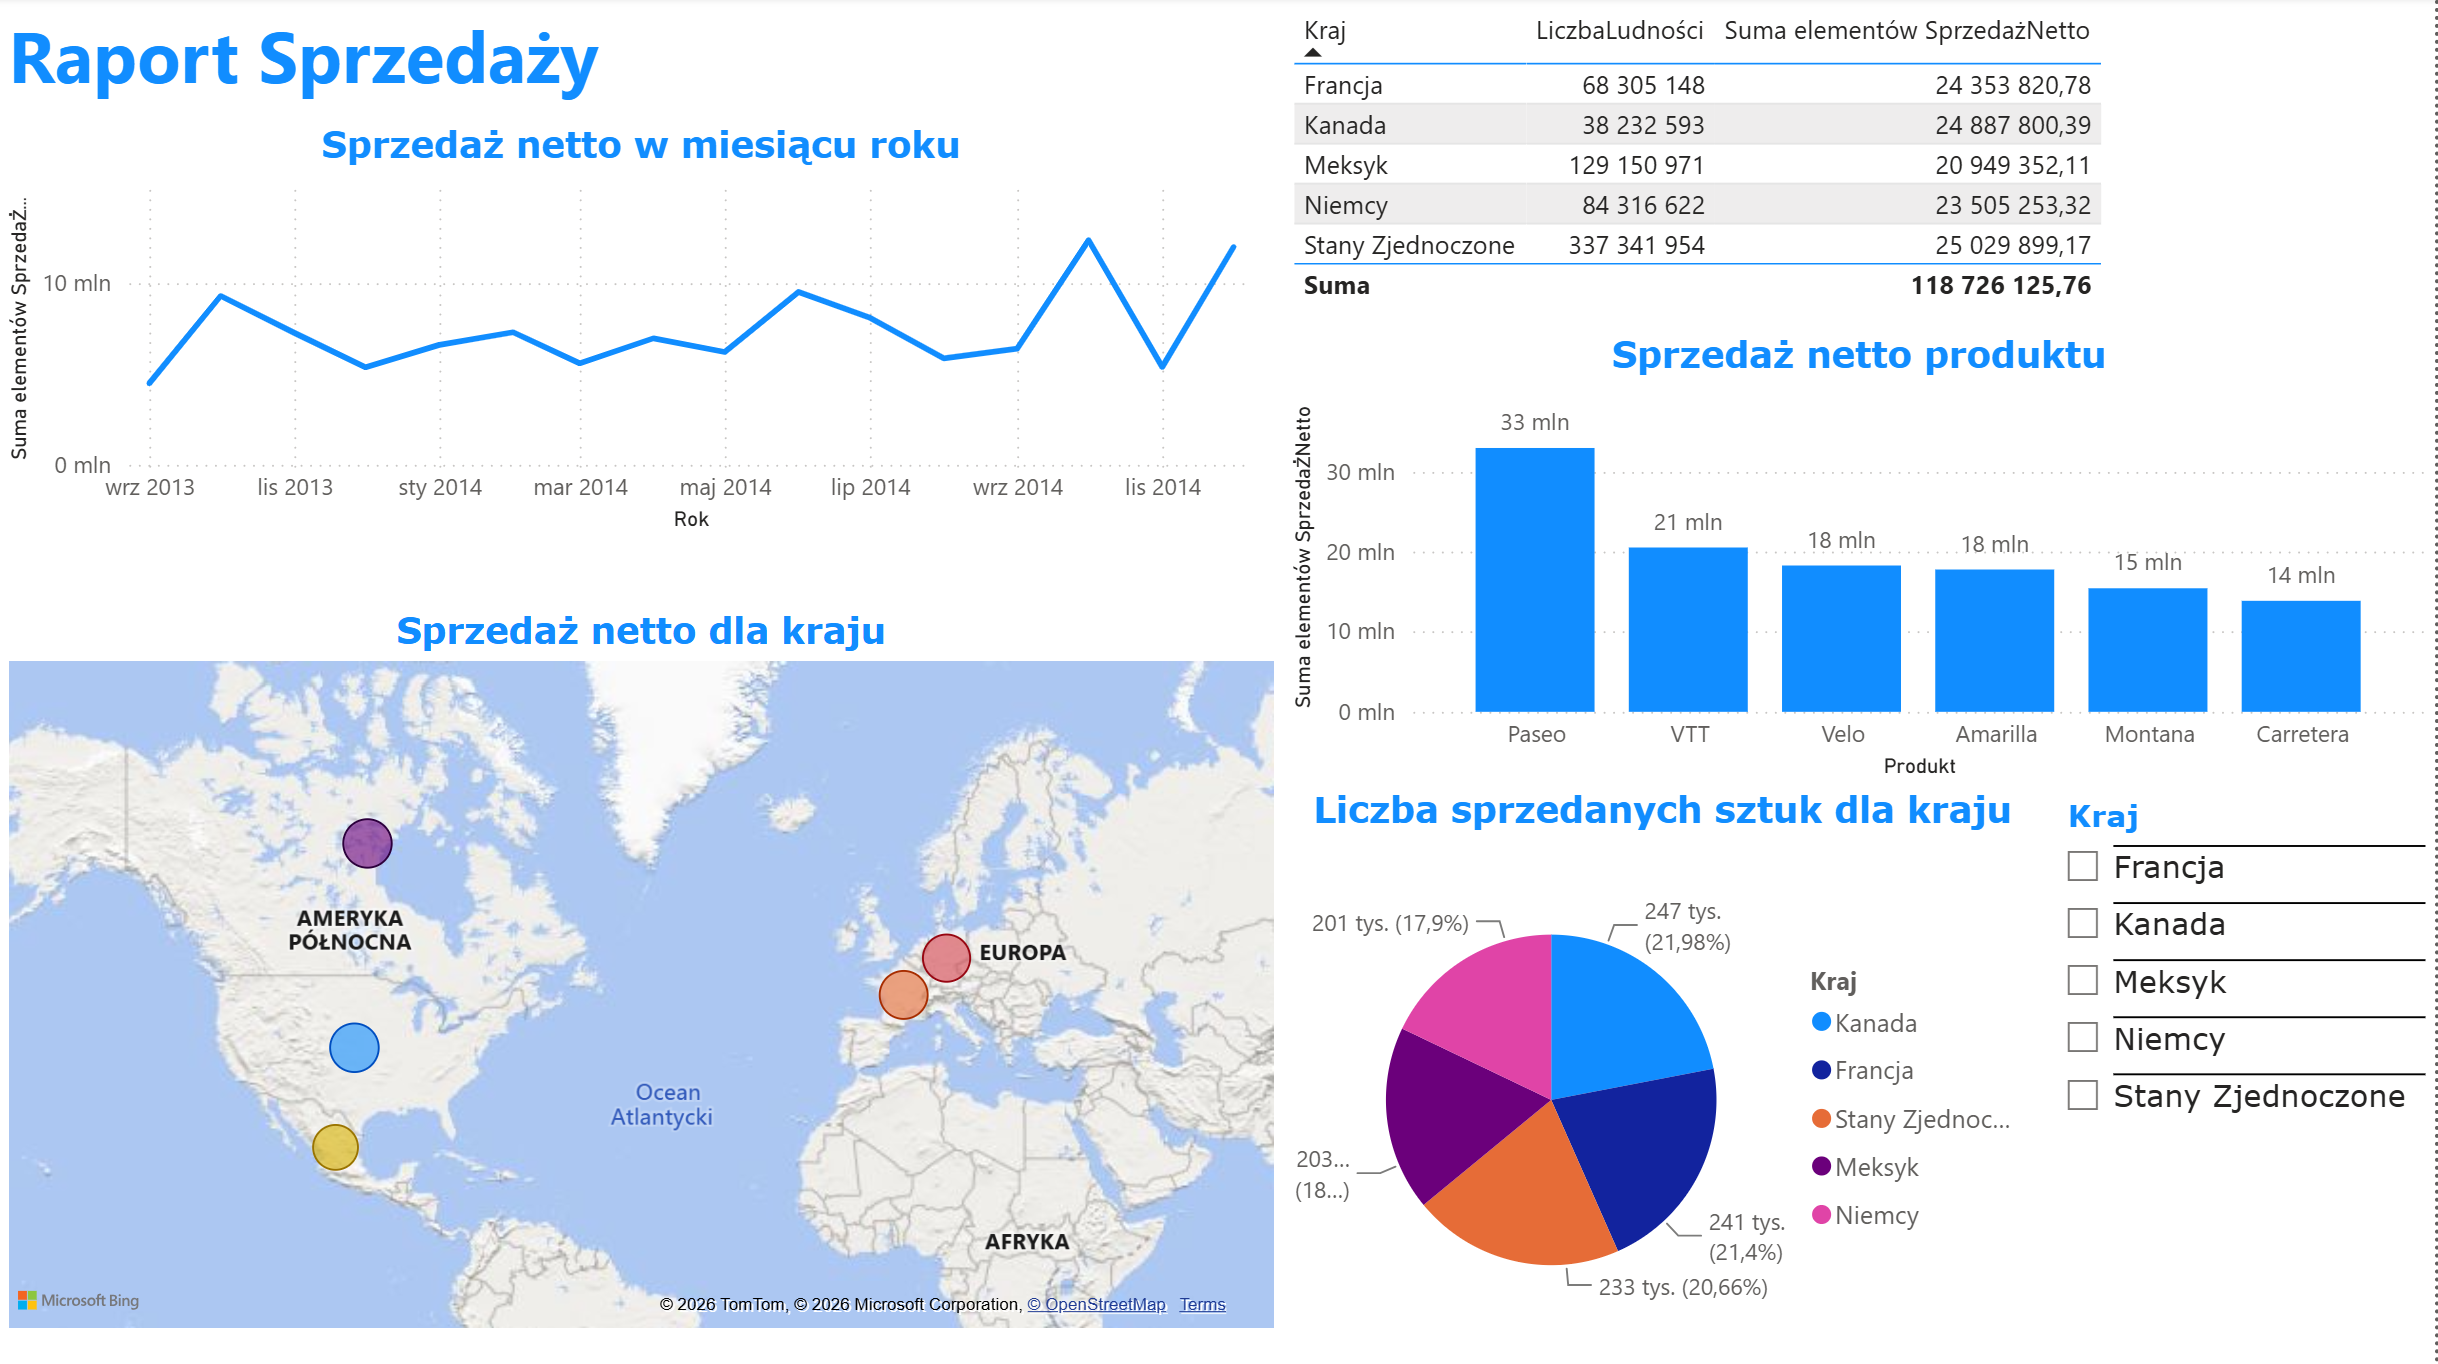

The dashboard page shown, as its layout file describes it:
{"tool":"powerbi","page":{"name":"Strona 1","canvas":[1280,720],"ordinal":0},"visuals":[{"type":"textbox","box":[0,0,374.6,65.9],"z":0},{"type":"lineChart","title":"Sprzedaż netto w miesiącu roku","fields":{"Y":["Sum(sprzedaż.SprzedażNetto)"],"Category":["sprzedaż.Data.Odmiana.Hierarchia dat.Rok","sprzedaż.Data.Odmiana.Hierarchia dat.Kwartał","sprzedaż.Data.Odmiana.Hierarchia dat.Miesiąc","sprzedaż.Data.Odmiana.Hierarchia dat.Dzień"]},"box":[0,66.2,674.8,219.2],"z":1000},{"type":"map","title":"Sprzedaż netto dla kraju","fields":{"Category":["sprzedaż.Kraj"],"Size":["Sum(sprzedaż.SprzedażNetto)"]},"box":[0,321.7,674.8,383.2],"z":2000},{"type":"tableEx","fields":{"Values":["sprzedaż.Kraj","sprzedaż.LiczbaLudności","Sum(sprzedaż.SprzedażNetto)"]},"box":[674.8,1.6,529.8,175],"z":3000},{"type":"columnChart","title":"Sprzedaż netto produktu","fields":{"Category":["sprzedaż.Produkt"],"Y":["Sum(sprzedaż.SprzedażNetto)"]},"box":[674.8,176.6,605.5,238.1],"z":4000},{"type":"pieChart","title":"Liczba sprzedanych sztuk dla kraju","fields":{"Category":["sprzedaż.Kraj"],"Y":["Sum(sprzedaż.Sprzedane_sztuki)"]},"box":[674.8,414.7,398.9,305.9],"z":5000},{"type":"slicer","fields":{"Values":["sprzedaż.Kraj"]},"box":[1074,415,206,305],"z":6000}]}

Visuals, with their boxes in screenshot pixels (x1, y1, x2, y2), scaled from the page's 1280x720 canvas onto the 2438x1364 screenshot:
textbox: [0,0,713,125]
"Sprzedaż netto w miesiącu roku" lineChart: [0,125,1285,541]
"Sprzedaż netto dla kraju" map: [0,609,1285,1335]
tableEx - sprzedaż.Kraj x sprzedaż.LiczbaLudności: [1285,3,2294,335]
"Sprzedaż netto produktu" columnChart: [1285,335,2437,786]
"Liczba sprzedanych sztuk dla kraju" pieChart: [1285,786,2045,1363]
slicer - sprzedaż.Kraj: [2046,786,2437,1363]
